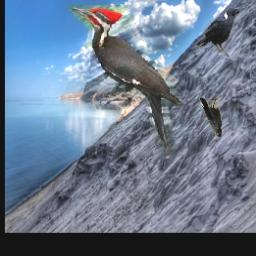Crow: (196, 7, 240, 57), (200, 99, 223, 138)
Woodpecker: (68, 6, 181, 156)
